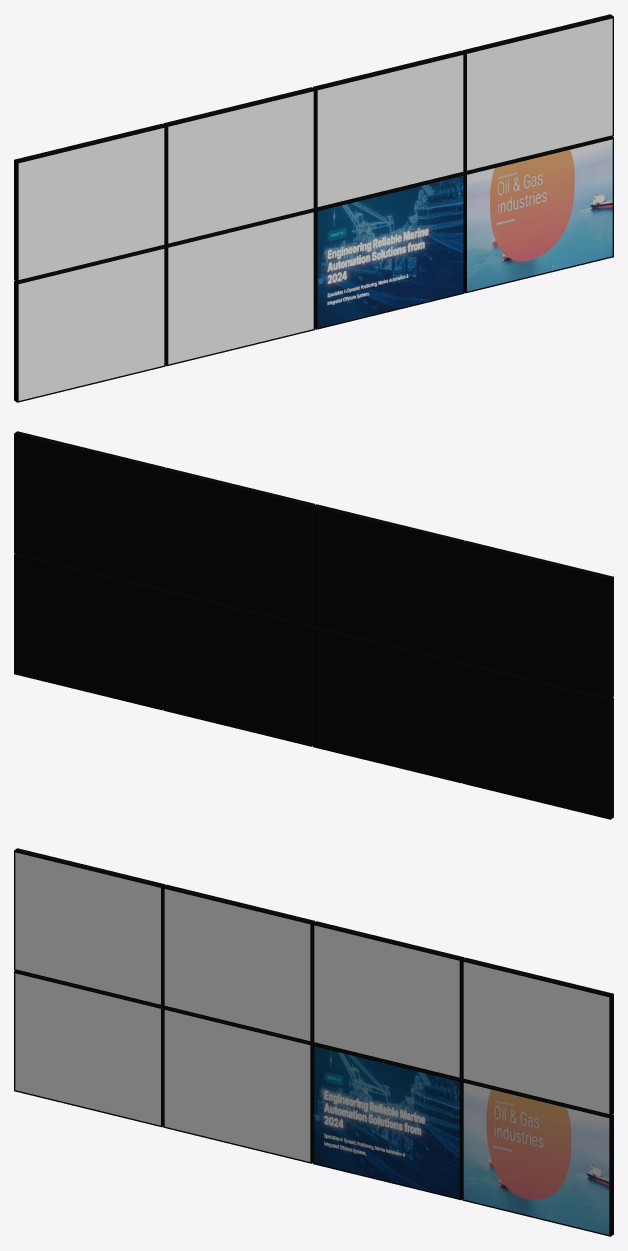
Rendered from Video_Wall_8_Modules.obj.
3 renders of one model, top to bottom at view 1: azimuth 30°, elevation 25°; view 2: azimuth 150°, elevation 25°; view 3: azimuth 330°, elevation 25°, orthographic.
Parts seen in each view (by area): view 1: Video_Wall_8_Modules_02, Video_Wall_8_Modules_06, Video_Wall_8_Modules_10, Video_Wall_8_Modules_14, Video_Wall_8_Modules_08, Video_Wall_8_Modules_12, Video_Wall_8_Modules_00, Video_Wall_8_Modules_04, Video_Wall_8_Modules_15, Video_Wall_8_Modules_13, Video_Wall_8_Modules_11, Video_Wall_8_Modules_09 (+4 smaller); view 2: Video_Wall_8_Modules_15, Video_Wall_8_Modules_11, Video_Wall_8_Modules_09, Video_Wall_8_Modules_13, Video_Wall_8_Modules_07, Video_Wall_8_Modules_01, Video_Wall_8_Modules_03, Video_Wall_8_Modules_05; view 3: Video_Wall_8_Modules_00, Video_Wall_8_Modules_04, Video_Wall_8_Modules_08, Video_Wall_8_Modules_12, Video_Wall_8_Modules_10, Video_Wall_8_Modules_14, Video_Wall_8_Modules_02, Video_Wall_8_Modules_06, Video_Wall_8_Modules_09, Video_Wall_8_Modules_11, Video_Wall_8_Modules_13, Video_Wall_8_Modules_15 (+4 smaller).
Boxes of the visible parts, x1=… form: Video_Wall_8_Modules_02: x1=317, y1=176, x2=463, y2=327; Video_Wall_8_Modules_06: x1=18, y1=249, x2=164, y2=400; Video_Wall_8_Modules_10: x1=317, y1=55, x2=463, y2=206; Video_Wall_8_Modules_14: x1=18, y1=128, x2=164, y2=279; Video_Wall_8_Modules_08: x1=467, y1=18, x2=612, y2=170; Video_Wall_8_Modules_12: x1=168, y1=91, x2=313, y2=243; Video_Wall_8_Modules_00: x1=467, y1=139, x2=612, y2=291; Video_Wall_8_Modules_04: x1=168, y1=212, x2=313, y2=364; Video_Wall_8_Modules_15: x1=14, y1=123, x2=165, y2=281; Video_Wall_8_Modules_13: x1=163, y1=87, x2=314, y2=245; Video_Wall_8_Modules_11: x1=313, y1=50, x2=464, y2=208; Video_Wall_8_Modules_09: x1=462, y1=14, x2=613, y2=172; Video_Wall_8_Modules_15: x1=462, y1=540, x2=613, y2=698; Video_Wall_8_Modules_11: x1=163, y1=467, x2=314, y2=625; Video_Wall_8_Modules_09: x1=14, y1=431, x2=165, y2=589; Video_Wall_8_Modules_13: x1=313, y1=504, x2=464, y2=662; Video_Wall_8_Modules_07: x1=462, y1=663, x2=613, y2=819; Video_Wall_8_Modules_01: x1=14, y1=553, x2=164, y2=710; Video_Wall_8_Modules_03: x1=163, y1=590, x2=313, y2=746; Video_Wall_8_Modules_05: x1=313, y1=626, x2=462, y2=783; Video_Wall_8_Modules_00: x1=463, y1=1083, x2=609, y2=1234; Video_Wall_8_Modules_04: x1=164, y1=1010, x2=310, y2=1161; Video_Wall_8_Modules_08: x1=463, y1=962, x2=609, y2=1113; Video_Wall_8_Modules_12: x1=164, y1=889, x2=310, y2=1040; Video_Wall_8_Modules_10: x1=314, y1=925, x2=459, y2=1077; Video_Wall_8_Modules_14: x1=15, y1=852, x2=160, y2=1004; Video_Wall_8_Modules_02: x1=314, y1=1046, x2=459, y2=1198; Video_Wall_8_Modules_06: x1=15, y1=973, x2=160, y2=1125; Video_Wall_8_Modules_09: x1=462, y1=957, x2=613, y2=1115; Video_Wall_8_Modules_11: x1=313, y1=921, x2=464, y2=1079; Video_Wall_8_Modules_13: x1=163, y1=884, x2=314, y2=1042; Video_Wall_8_Modules_15: x1=14, y1=848, x2=165, y2=1006.
Bounding box in the file's own units: 519 × 200 × 5.06.
